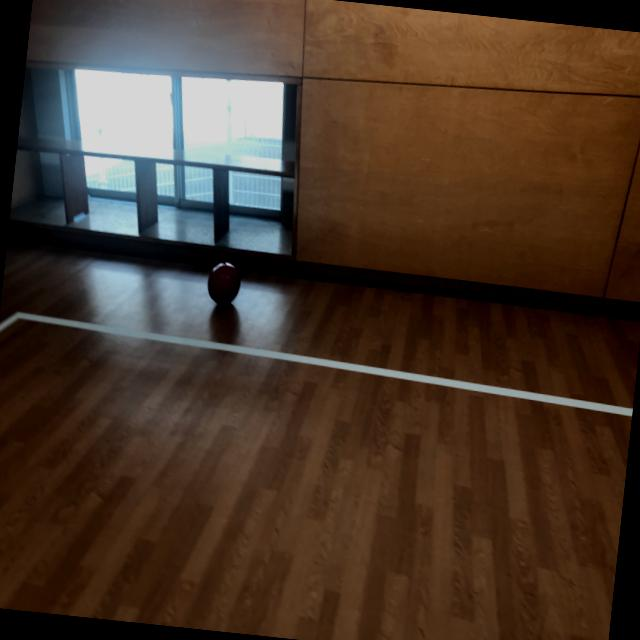red_ball: (205, 258, 243, 306)
